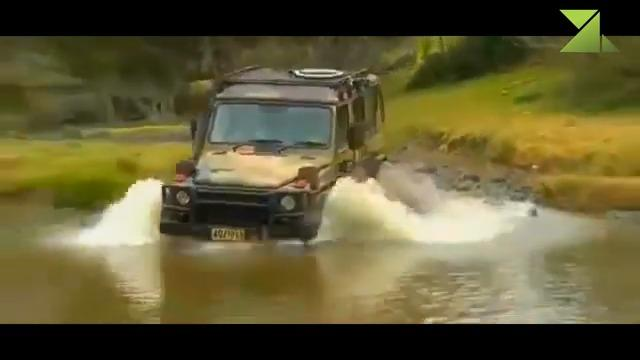MIL_HMMWV: (157, 63, 390, 243)
